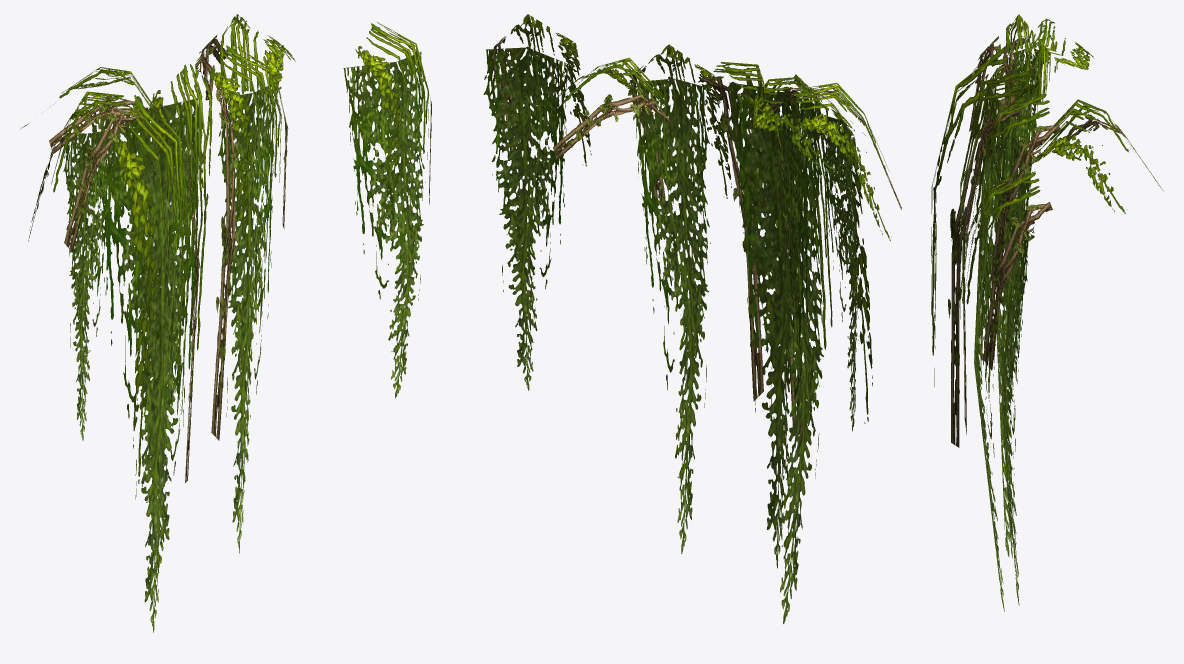
File: S_Plant_Green024.FBX
3 renders of one model, left to right at view 1: azimuth 30°, elevation 25°; view 2: azimuth 150°, elevation 25°; view 3: azimuth 270°, elevation 25°, orthographic. The views are drawn at different scales.
Parts seen in each view (by area): view 1: S_Plant_Green024; view 2: S_Plant_Green024; view 3: S_Plant_Green024.
Part boxes in pixels (left/top/right/bottom): S_Plant_Green024: left=21, top=14, right=431, bottom=632; S_Plant_Green024: left=483, top=14, right=901, bottom=623; S_Plant_Green024: left=931, top=14, right=1163, bottom=611.
Bounding box in the file's own units: 305 × 149 × 407.
